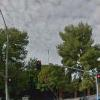Tree: (54, 18, 100, 76)
